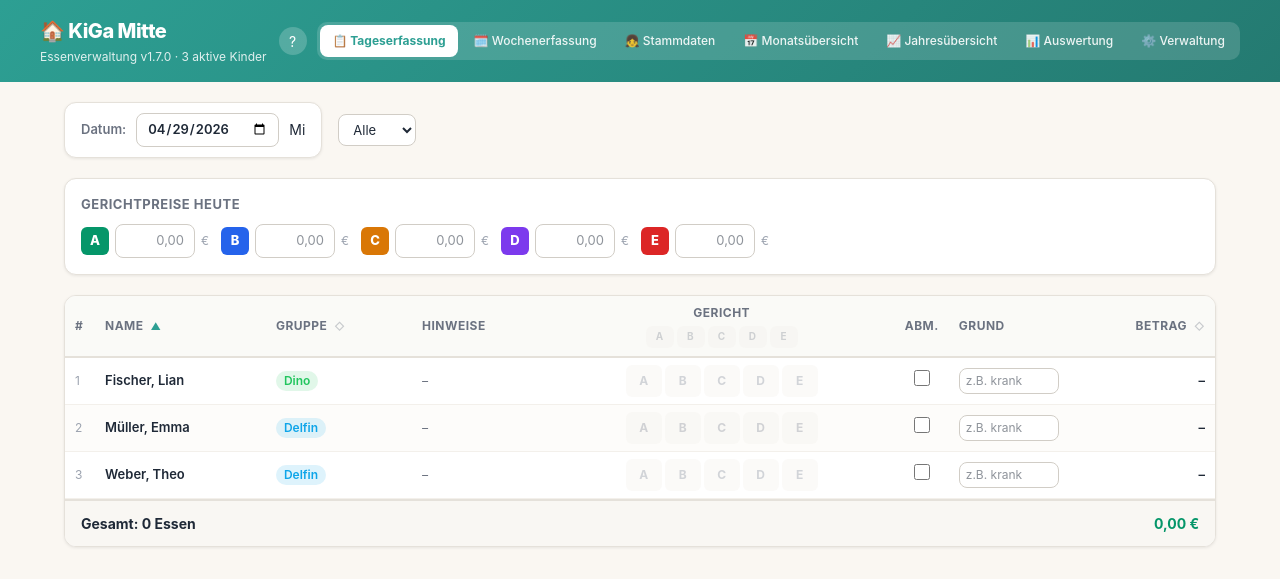
Test case: WeeklyEntry › geschlossene Tage zeigen keine Bulk-Buttons (Sonntag oder Feiertag)
Check: the text "Müller, Emma" is shown, box x1=95 y1=404 x2=266 y2=451
Click the button "🗓️ Wochenerfassung" at [535, 41], box x1=462 y1=25 x2=609 y2=57
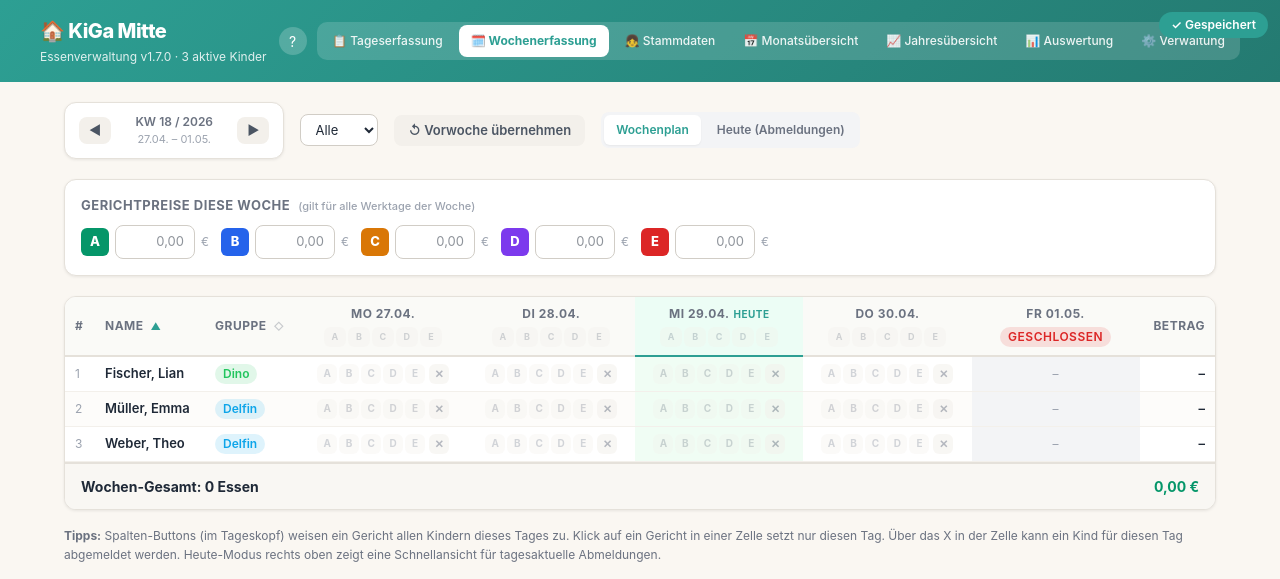
Check: the text "Gerichtpreise diese Woche(gilt für alle Werktage der Woche)" is shown, box x1=81 y1=196 x2=475 y2=212
Check: the column heading "Fr 01.05. Geschlossen" is shown, box x1=972 y1=296 x2=1140 y2=356
